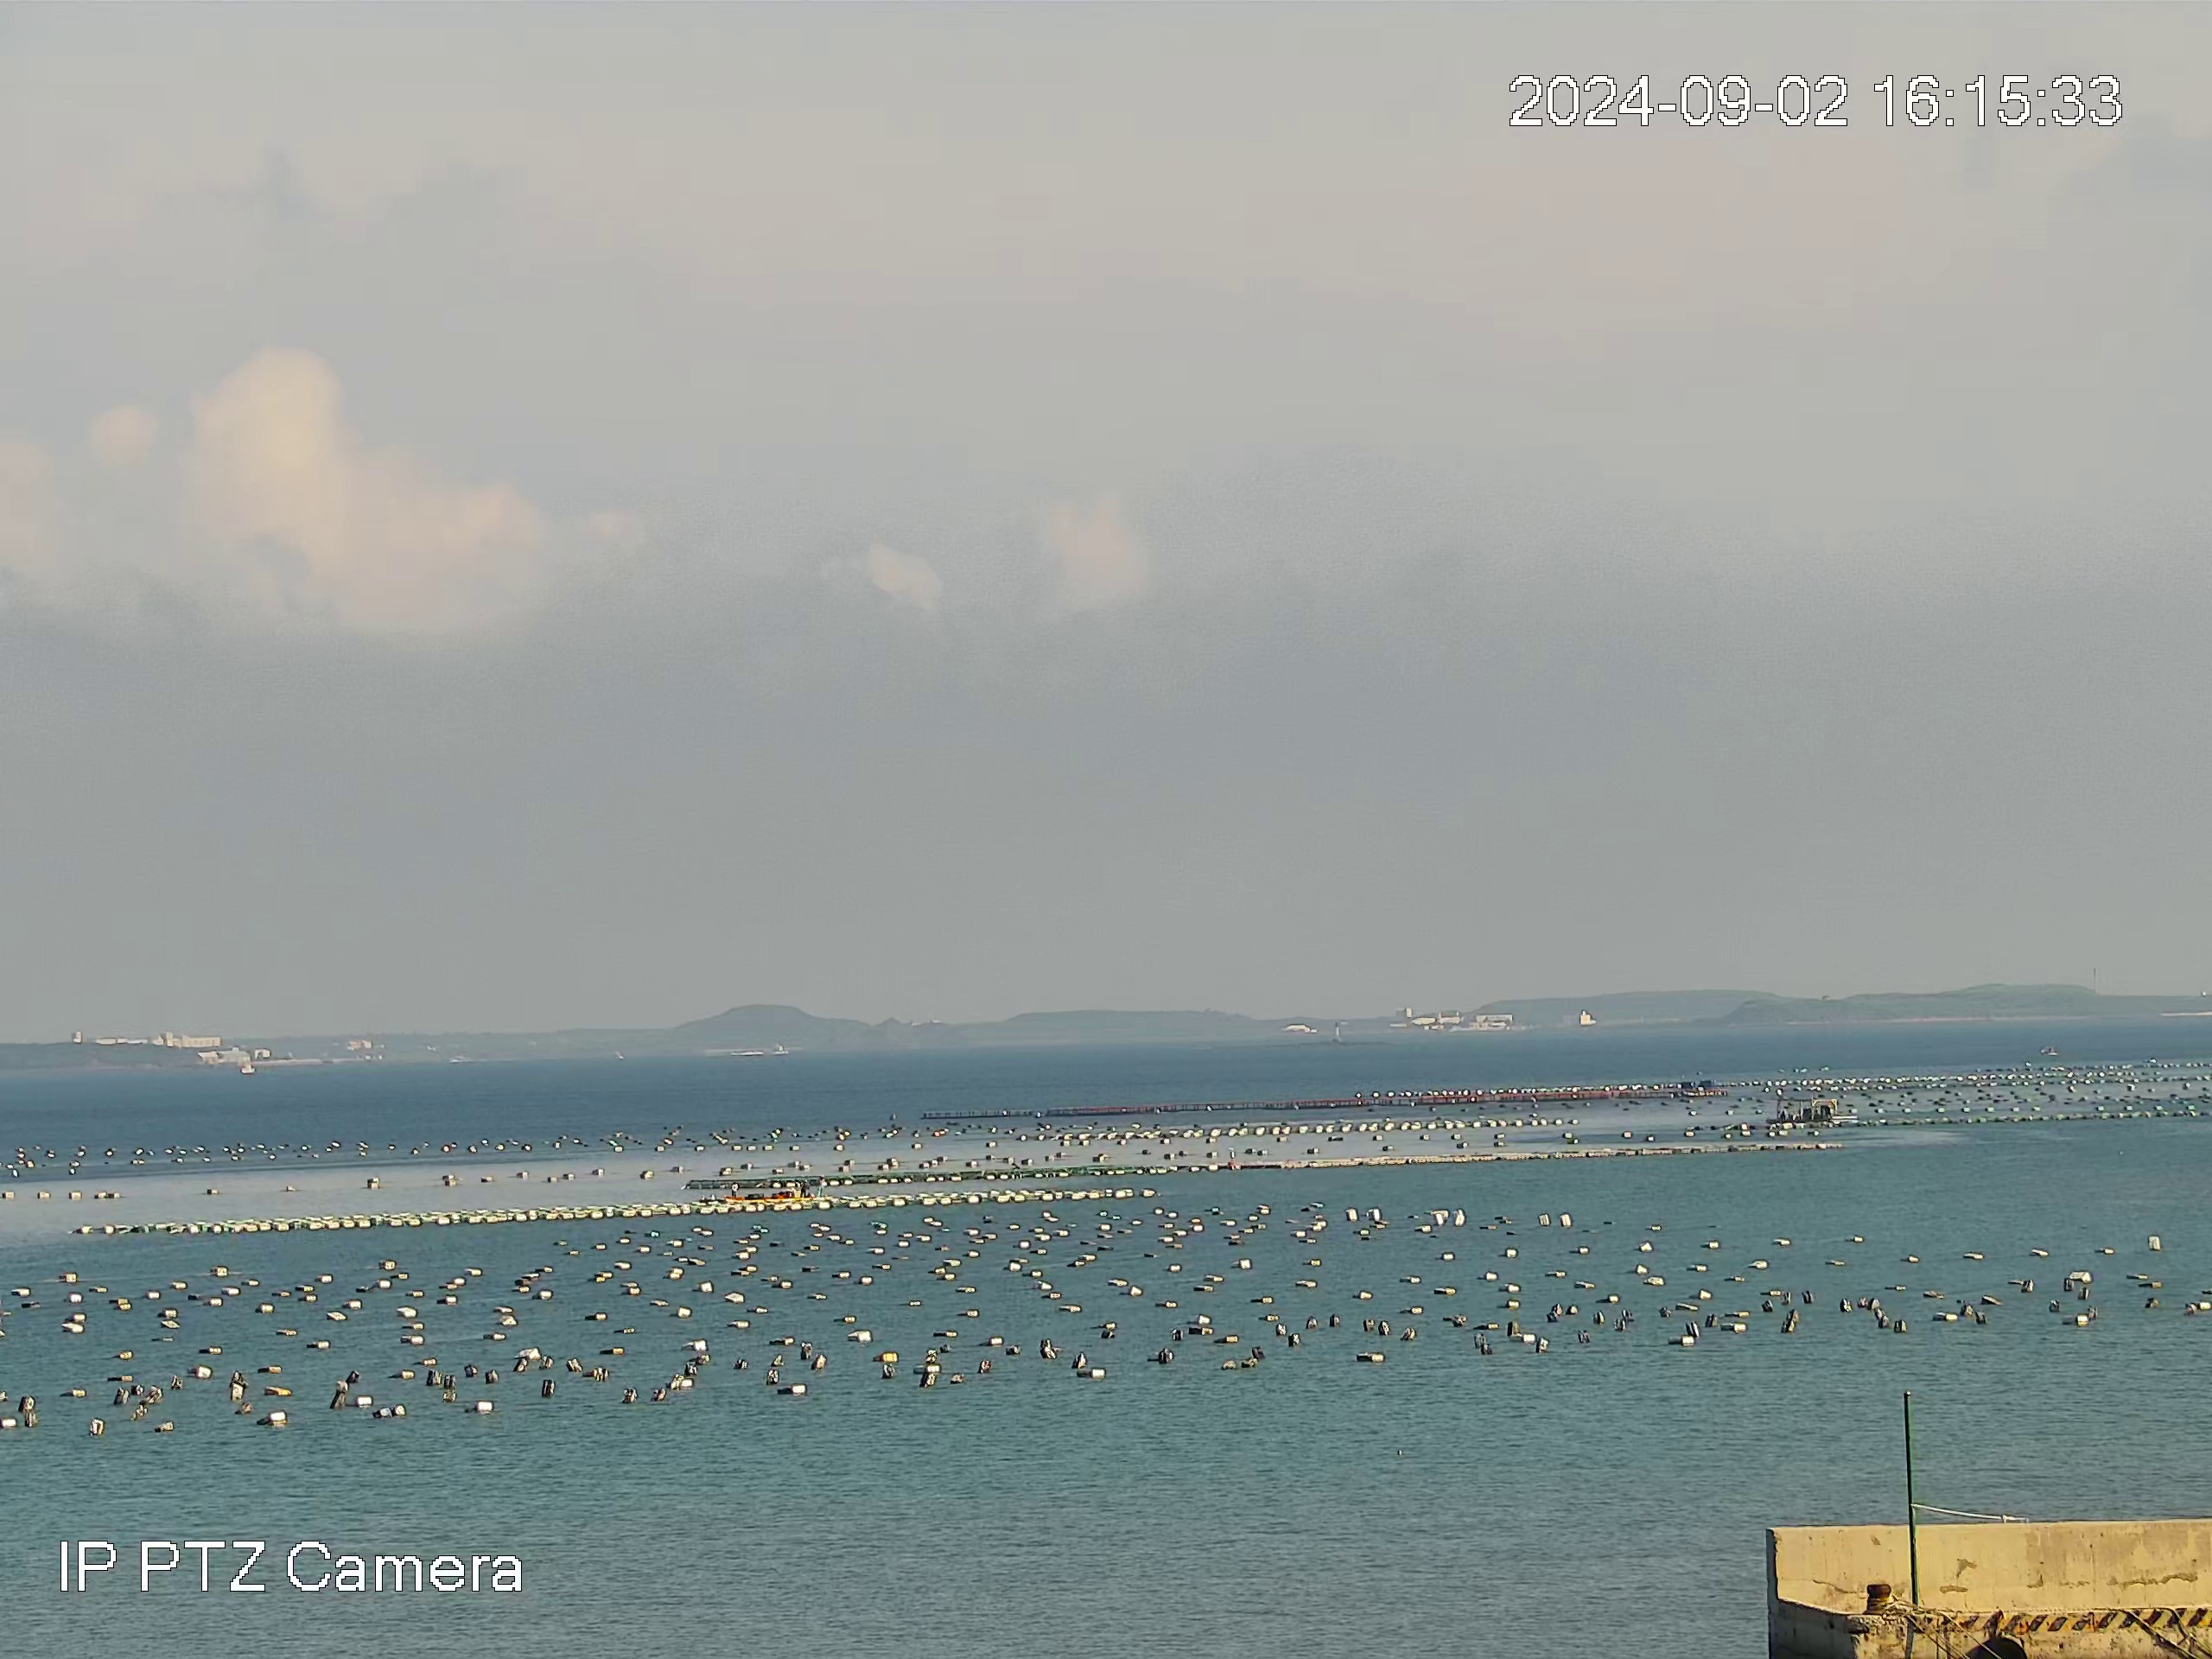boat: (725, 1178, 833, 1204), (1764, 1098, 1839, 1126)
